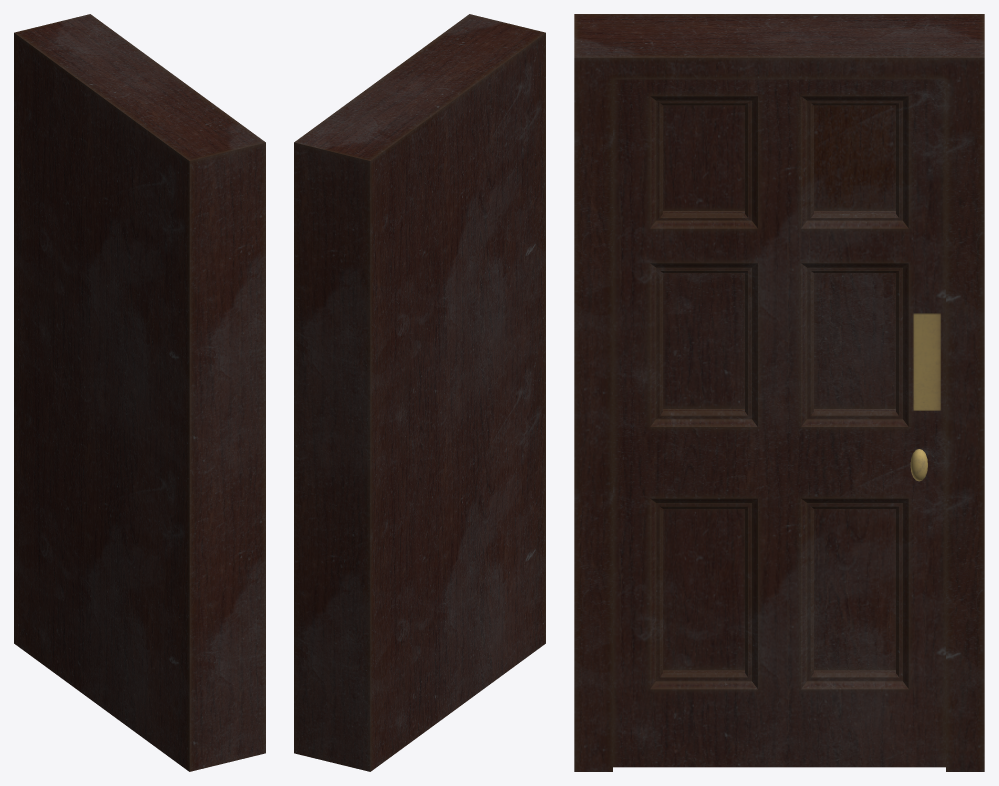
The picture shows the model from 3 angles, left to right: view 1: azimuth 30°, elevation 25°; view 2: azimuth 150°, elevation 25°; view 3: azimuth 270°, elevation 25°; orthographic projection. The views are drawn at different scales.
Parts seen in each view (by area): view 1: SM_door_68; view 2: SM_door_68; view 3: SM_door_68.
Part boxes in pixels (x1,y1,x2,y2): SM_door_68: (14, 14, 265, 771); SM_door_68: (294, 14, 545, 771); SM_door_68: (574, 14, 984, 771).
Bounding box in the file's own units: 0.432 × 2.85 × 1.48.
1 material, 1 textured.
